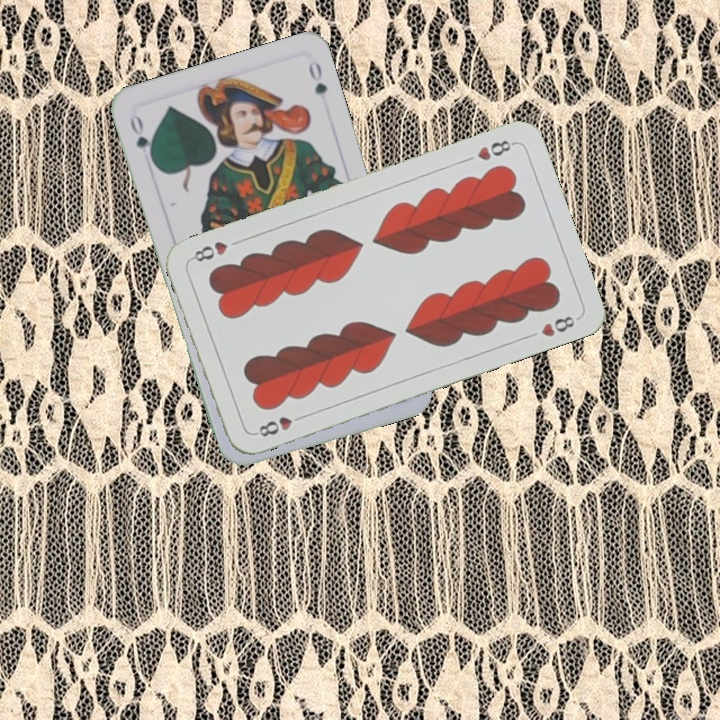GO: (125, 111, 157, 166)
H8: (251, 410, 308, 440), (473, 136, 518, 163)
